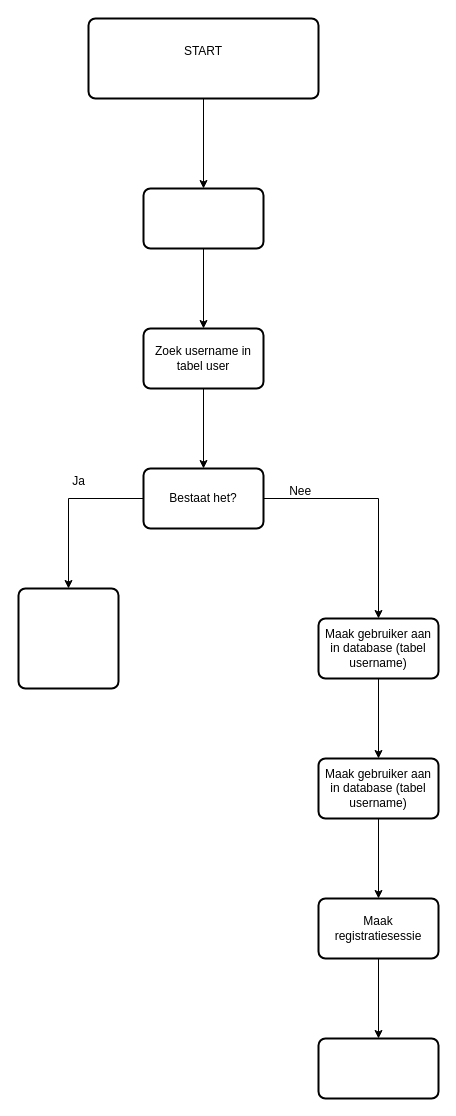
Some shapes in this 456 by 1116 pixel diagram are drawn without their labels. The shapes that lost their labels are listed below. From the top down, each one's centre as x and y in pixels, then its label:
At point 203,218: "Connect database".
At point 68,638: "Username already exist".
At point 378,1068: "Account created".
